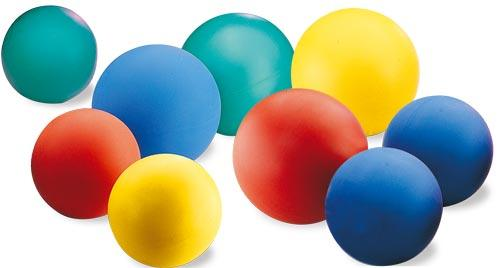blue ball: (91, 44, 222, 162), (325, 146, 444, 267), (382, 95, 493, 207)
red ball: (234, 90, 368, 227), (30, 107, 144, 223)
